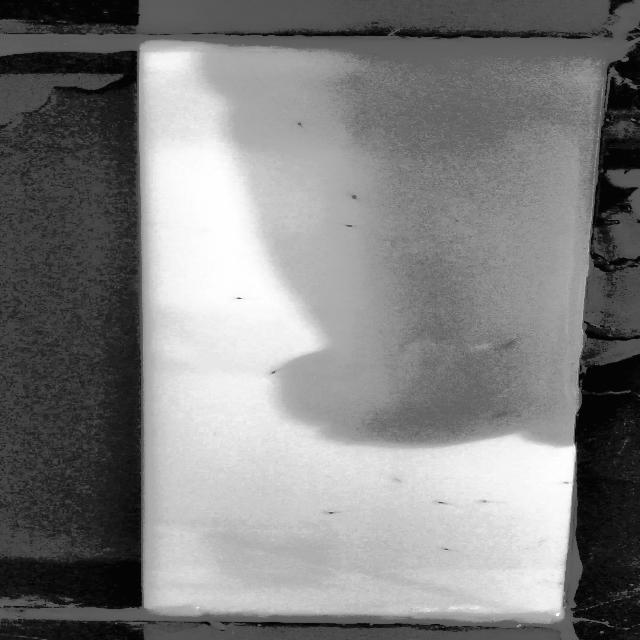shrimp: (490, 333, 526, 354), (424, 538, 462, 556), (356, 49, 412, 61), (486, 405, 519, 425), (310, 506, 359, 519), (468, 493, 498, 511), (422, 493, 452, 510), (286, 119, 312, 134), (344, 192, 366, 209), (260, 362, 282, 379), (330, 221, 366, 231), (224, 294, 257, 304)
